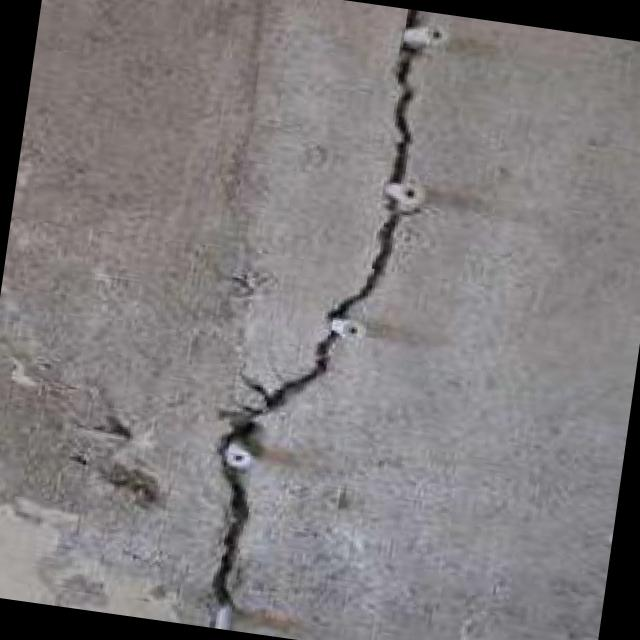crack: (205, 43, 424, 615)
